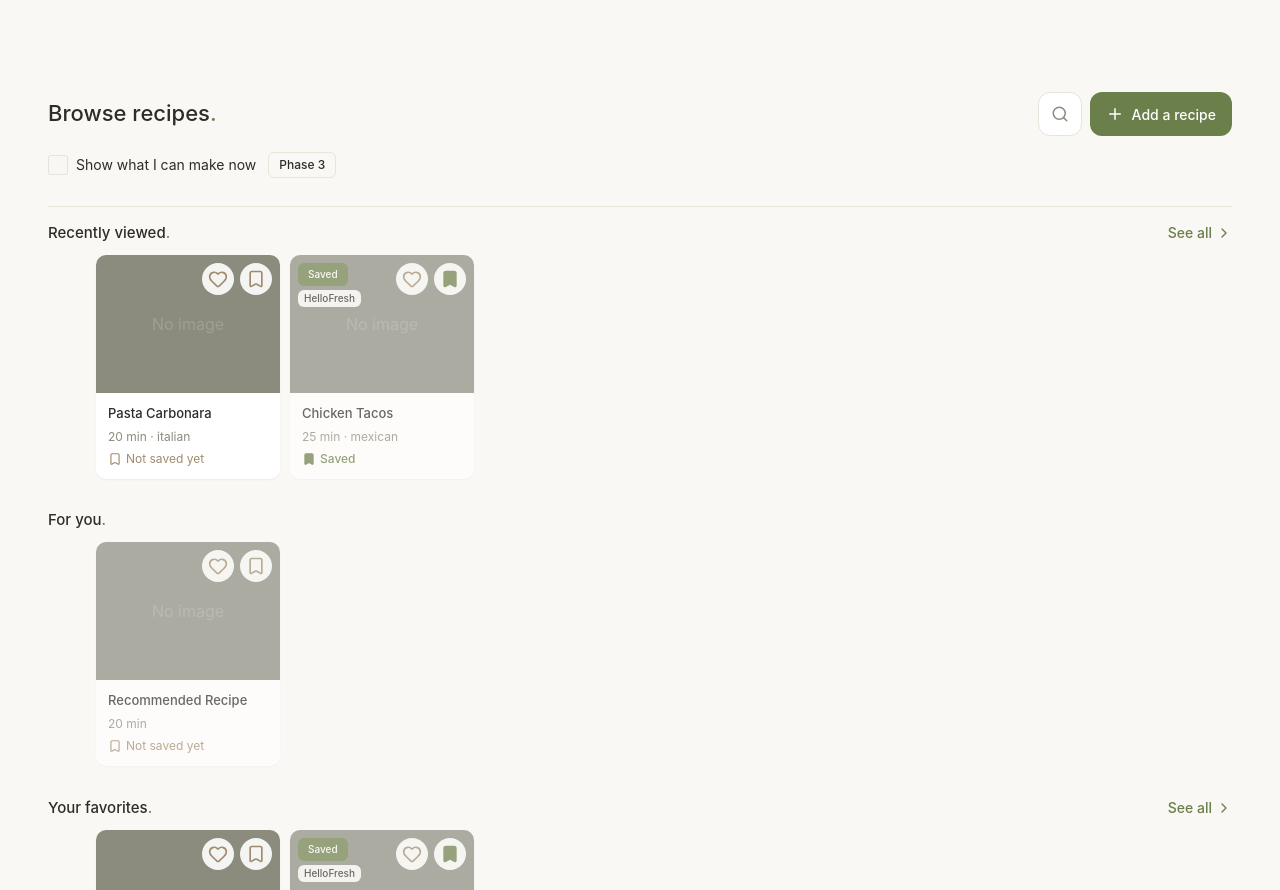
Scenario: Recipes Page › see all functionality › transitions to grid view when "See all" is clicked
The image size is (1280, 890).
// Find "See all" button for Quick meals section
Step 1. Click the button "See all" in the row of "Recently viewed" → (1200, 233), box [1168,223,1232,243]
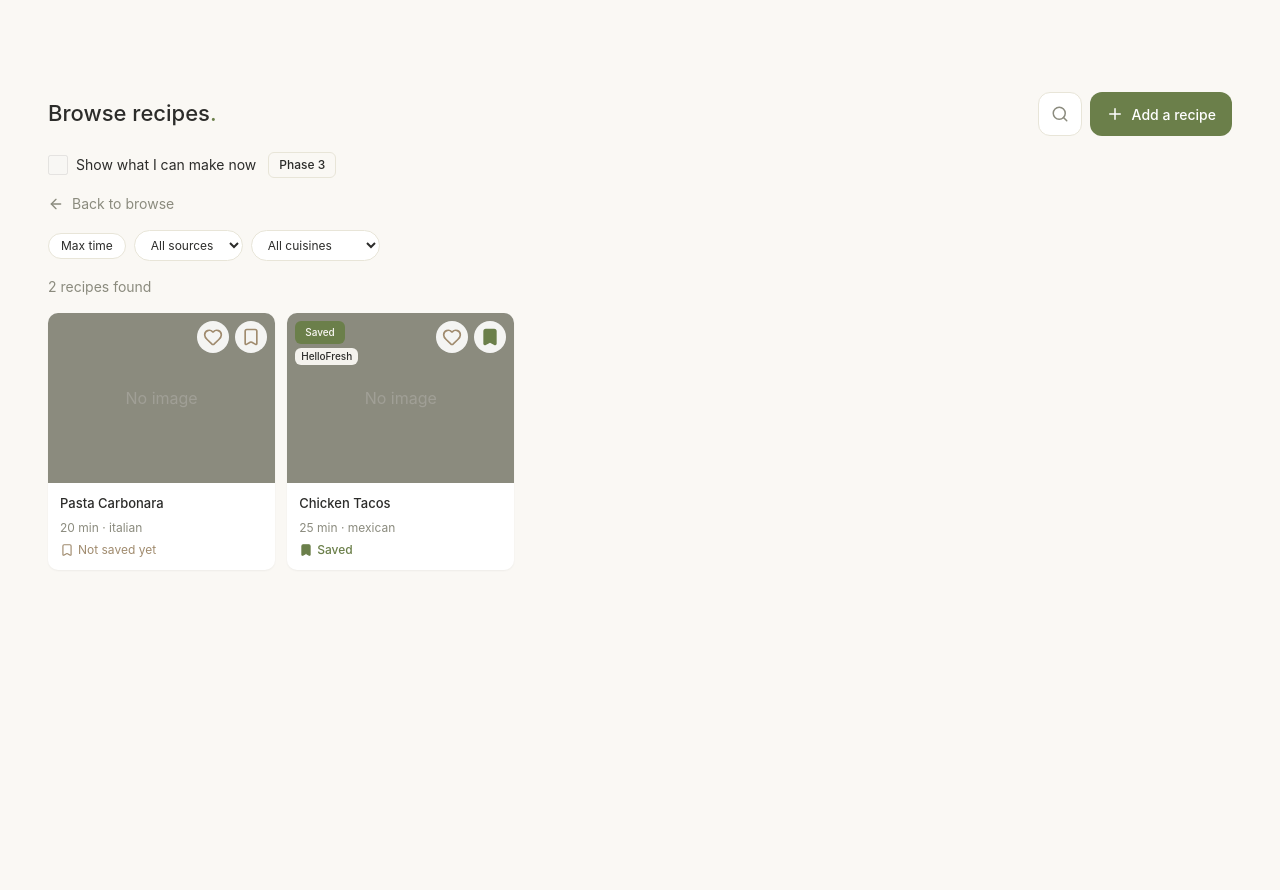
Now the button with aria-label "Back to browse view" is shown, box [48,194,174,214]
